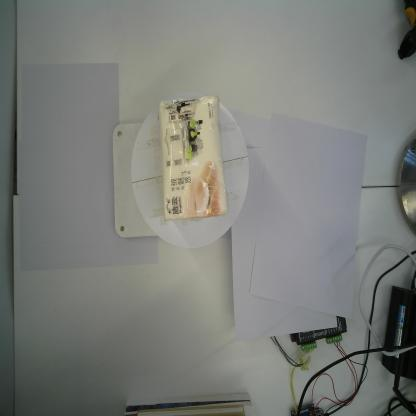Tissue: (155, 89, 231, 227)
